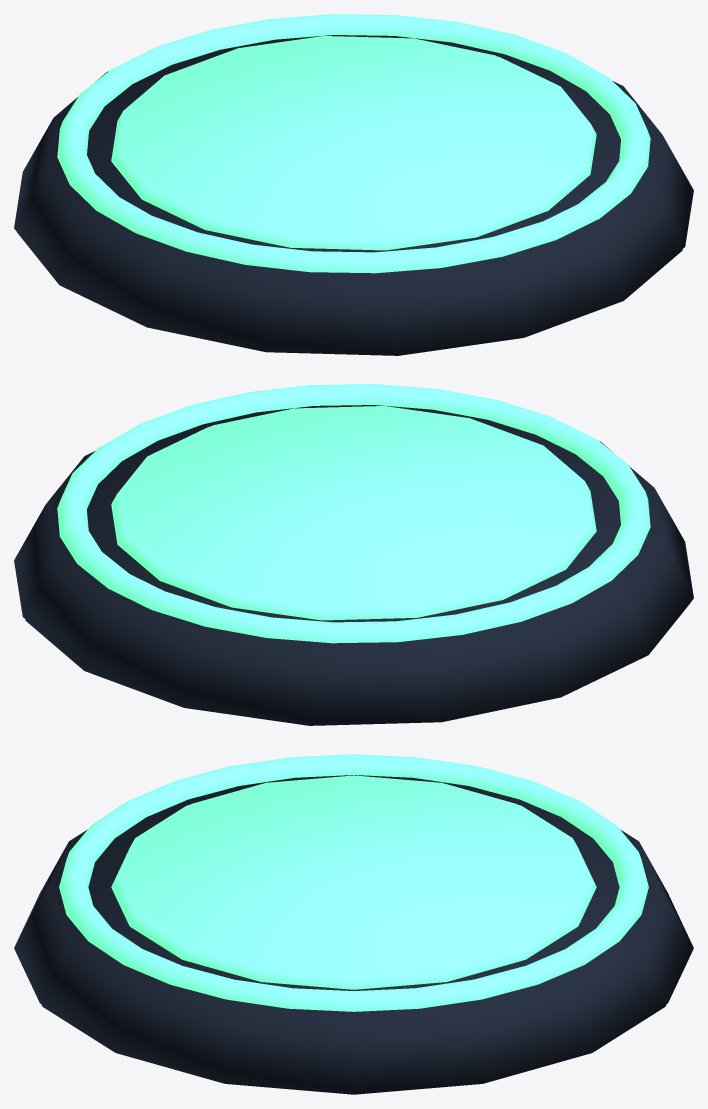
The model's file is prop_jump_pad.glb.
3 views of the same model, one above another, from view 1: azimuth 30°, elevation 25°; view 2: azimuth 150°, elevation 25°; view 3: azimuth 270°, elevation 25° (orthographic).
Parts seen in each view (by area): view 1: PadEmitter, PadChassis, PadRing; view 2: PadEmitter, PadChassis, PadRing; view 3: PadEmitter, PadChassis, PadRing.
Part boxes in pixels (x1,y1,x2,y2): PadEmitter: [111, 36, 596, 250]; PadChassis: [14, 35, 693, 355]; PadRing: [57, 14, 650, 273]; PadEmitter: [111, 406, 596, 620]; PadChassis: [14, 405, 693, 725]; PadRing: [57, 384, 650, 643]; PadEmitter: [111, 775, 596, 989]; PadChassis: [14, 775, 693, 1094]; PadRing: [59, 754, 648, 1011].
Bounding box in the file's own units: 2.09 × 0.27 × 2.09.
